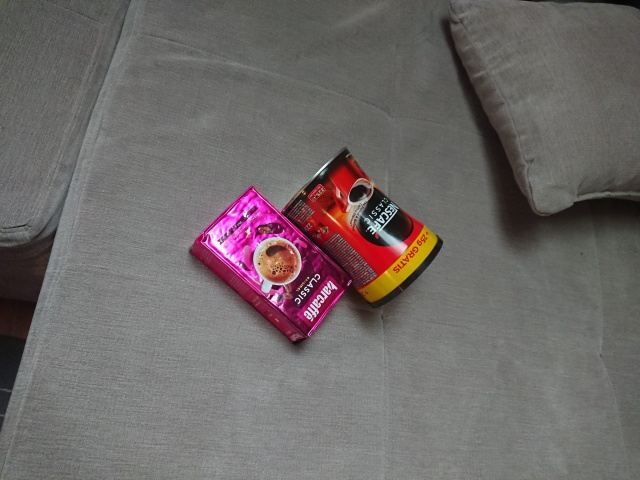Barcaffe Classic Original 225g: (186, 183, 357, 348)
Nescafe Classic 225g: (277, 144, 446, 312)
